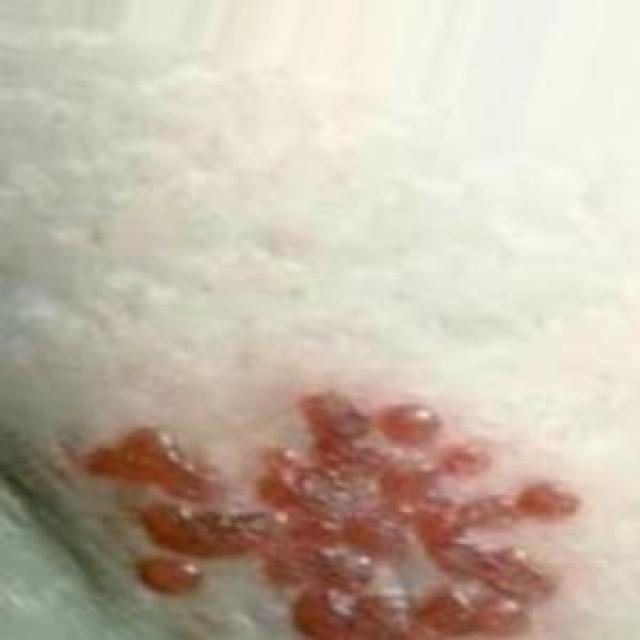Shingles: (80, 386, 585, 640)
